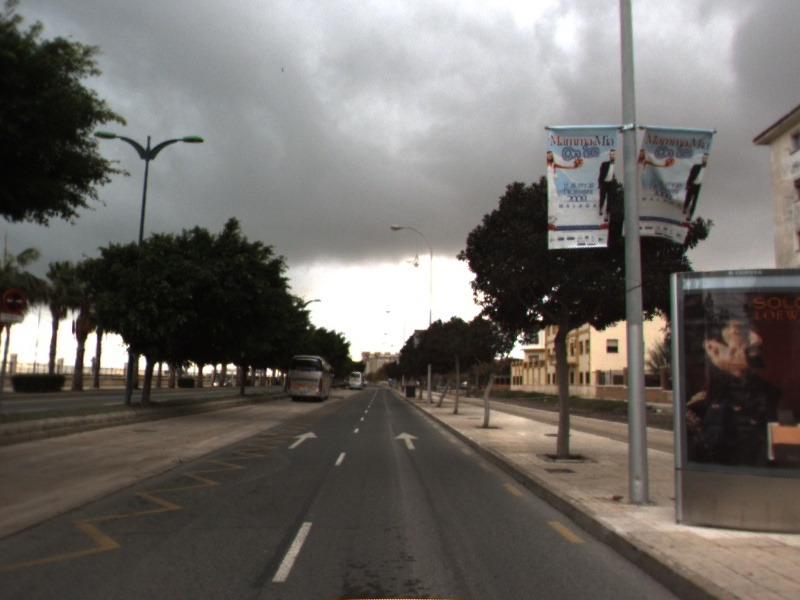STRAIGHT: (286, 429, 319, 450), (392, 430, 422, 451)
